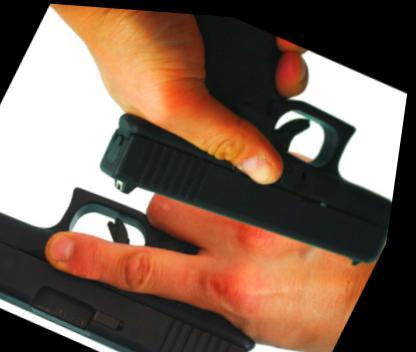pistol: (84, 7, 415, 292), (0, 144, 309, 351)
